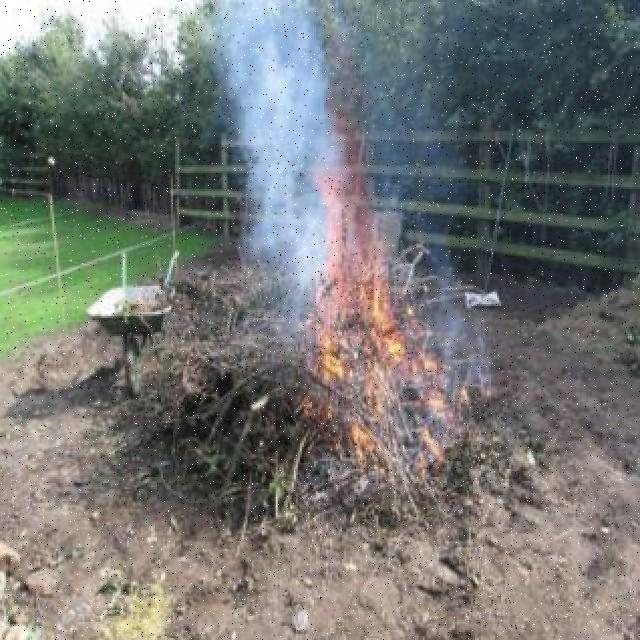fire: (336, 239, 461, 463)
smoke: (218, 1, 356, 302)
